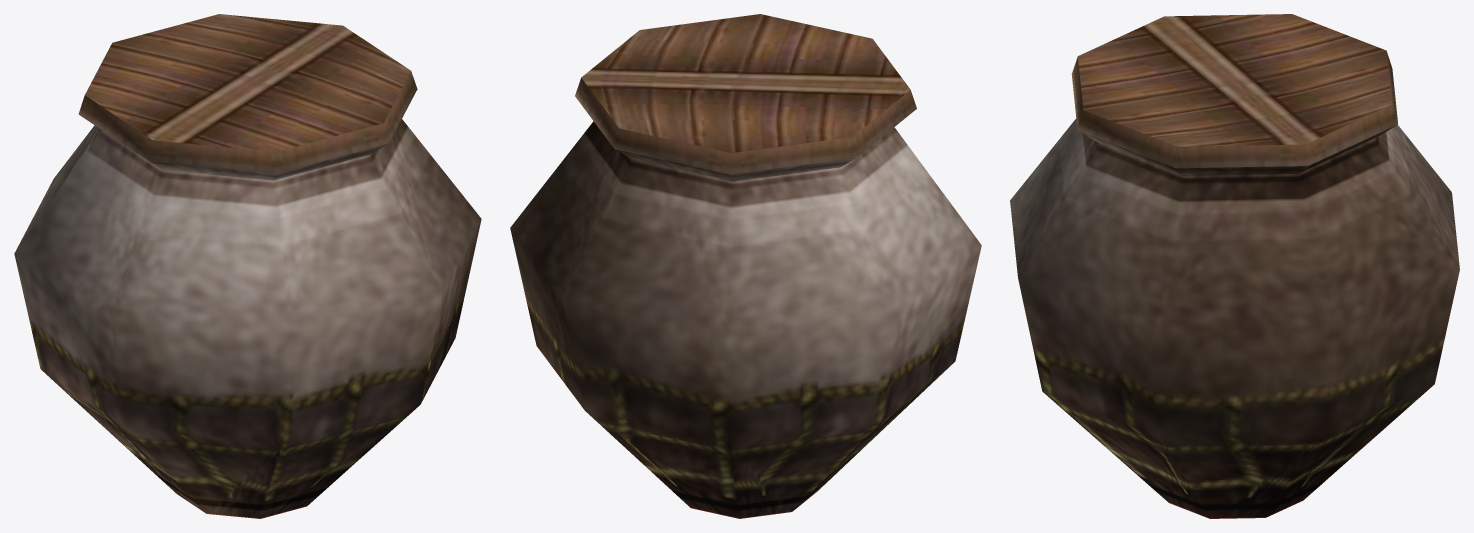
Rendered from shuigang_tyc_04.FBX.
3 renders of one model, left to right at view 1: azimuth 30°, elevation 25°; view 2: azimuth 150°, elevation 25°; view 3: azimuth 270°, elevation 25°, orthographic.
Visible parts, largest first — view 1: shuigang_tyc_04; view 2: shuigang_tyc_04; view 3: shuigang_tyc_04.
Part boxes in pixels (<box>): shuigang_tyc_04: <box>14,14,481,518</box>; shuigang_tyc_04: <box>510,14,981,518</box>; shuigang_tyc_04: <box>1010,14,1459,518</box>.
Size of what is drawn, in the model's own units: 152 by 153 by 152.
